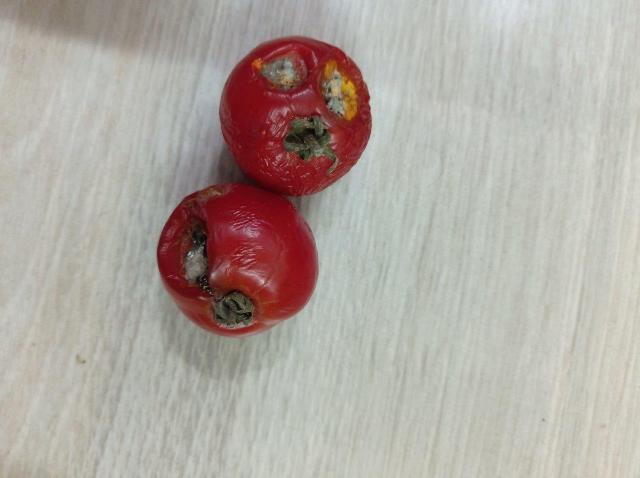defect: (154, 182, 321, 340), (214, 34, 373, 197)
